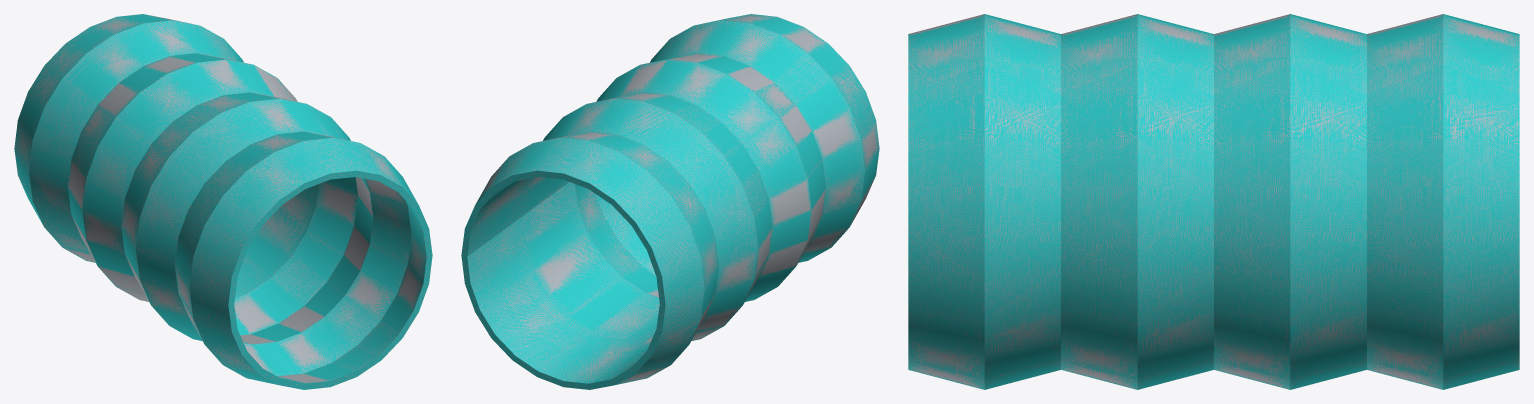
File: tubo.fbx
The picture shows the model from 3 angles, left to right: view 1: azimuth 30°, elevation 25°; view 2: azimuth 150°, elevation 25°; view 3: azimuth 270°, elevation 25°; orthographic projection. The views are drawn at different scales.
Visible parts, largest first — view 1: Group1; view 2: Group1; view 3: Group1.
Part boxes in pixels (<box>): Group1: <box>14,14,432,389</box>; Group1: <box>461,14,879,389</box>; Group1: <box>908,14,1519,389</box>.
Size of the model in its own units: 5.31 by 5.31 by 8.6.
